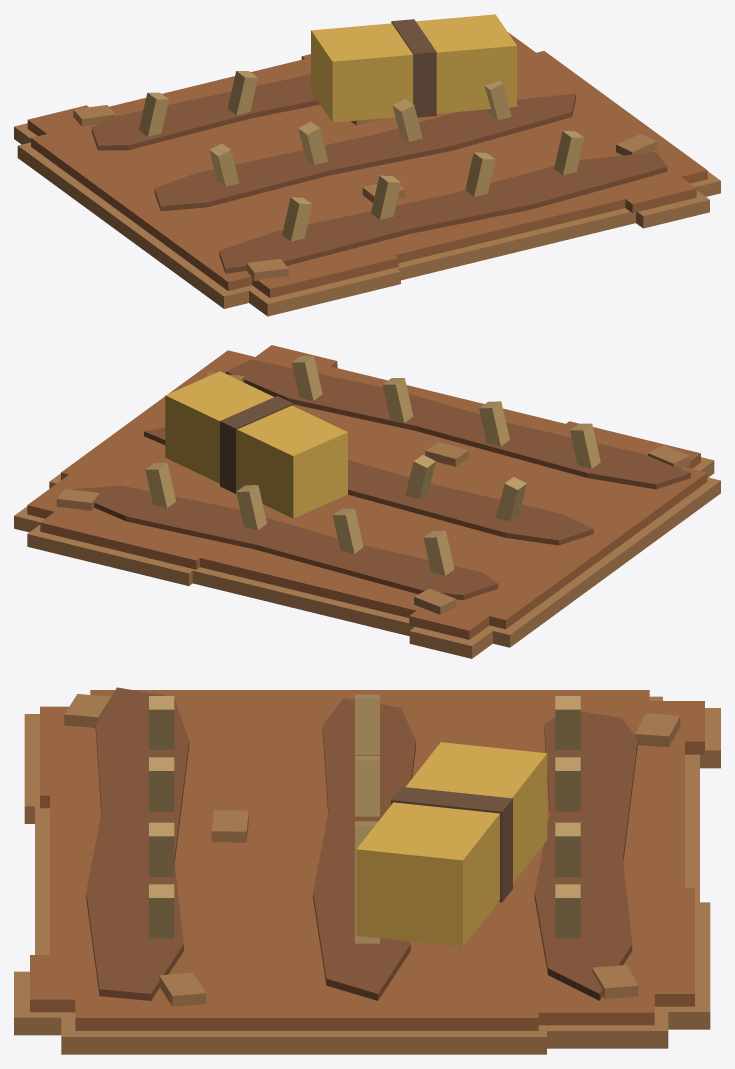
The model's file is plot-harvested.glb.
3 views of the same model, one above another, from view 1: azimuth 30°, elevation 25°; view 2: azimuth 150°, elevation 25°; view 3: azimuth 270°, elevation 25° (orthographic). The views are drawn at different scales.
Visible parts, largest first — view 1: Cut stalk; view 2: Cut stalk; view 3: Cut stalk.
Boxes of the visible parts, x1,y1,x2,y2 form: Cut stalk: [14, 14, 720, 316]; Cut stalk: [14, 345, 720, 658]; Cut stalk: [14, 687, 720, 1054].
Bounding box in the file's own units: 1.77 × 0.335 × 1.55.
